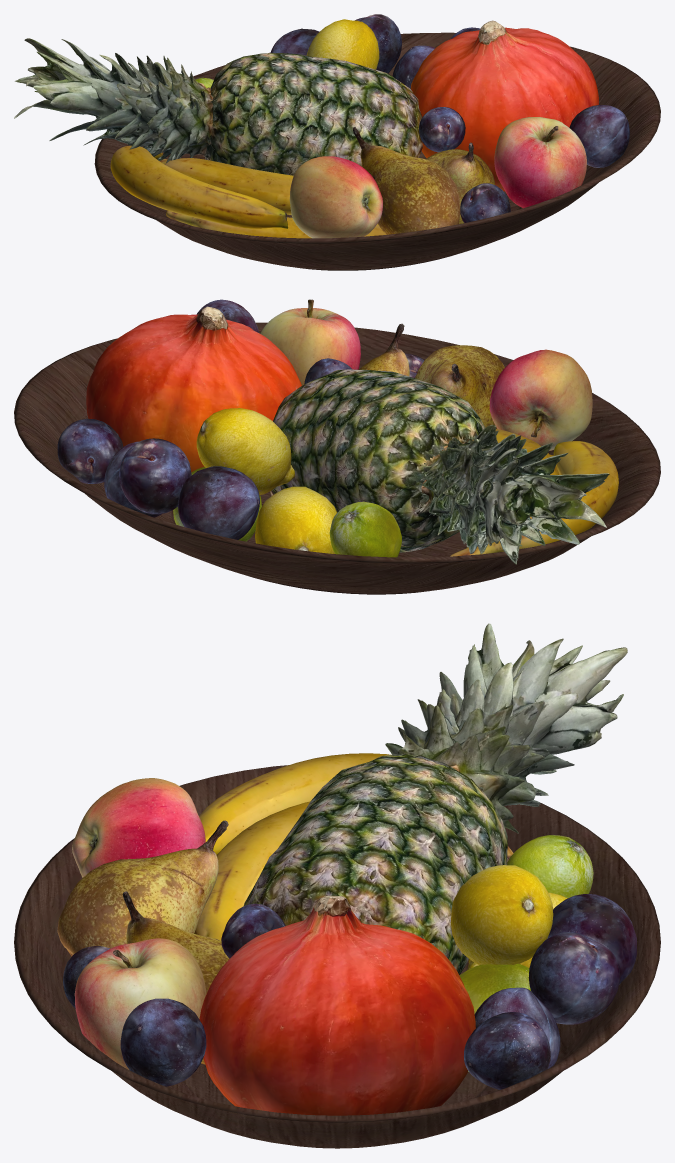
Rendered from 静物_水果_fruit_bowl_opt.glb.
3 renders of one model, top to bottom at view 1: azimuth 30°, elevation 25°; view 2: azimuth 150°, elevation 25°; view 3: azimuth 270°, elevation 25°, orthographic. The views are drawn at different scales.
Visible parts, largest first — view 1: Object_4, Object_2, Object_5, Object_6, Object_7, Object_11, Object_10, Object_8; view 2: Object_4, Object_2, Object_5, Object_11, Object_6, Object_8, Object_10, Object_7, Object_9; view 3: Object_4, Object_5, Object_2, Object_11, Object_6, Object_10, Object_7, Object_8, Object_9.
Boxes of the visible parts, bbox=[...] form: Object_4: bbox=[14, 38, 422, 175]; Object_2: bbox=[94, 32, 660, 270]; Object_5: bbox=[410, 20, 598, 191]; Object_6: bbox=[289, 117, 586, 238]; Object_7: bbox=[110, 145, 386, 238]; Object_11: bbox=[270, 14, 629, 222]; Object_10: bbox=[353, 127, 494, 234]; Object_8: bbox=[306, 19, 379, 69]; Object_4: bbox=[270, 369, 609, 564]; Object_2: bbox=[14, 322, 660, 594]; Object_5: bbox=[86, 306, 301, 472]; Object_11: bbox=[57, 299, 424, 539]; Object_6: bbox=[260, 299, 592, 450]; Object_8: bbox=[196, 408, 336, 553]; Object_10: bbox=[358, 323, 504, 428]; Object_7: bbox=[449, 427, 618, 556]; Object_9: bbox=[173, 467, 401, 557]; Object_4: bbox=[243, 623, 627, 974]; Object_5: bbox=[199, 895, 475, 1115]; Object_2: bbox=[14, 765, 660, 1148]; Object_11: bbox=[63, 894, 636, 1089]; Object_6: bbox=[72, 778, 206, 1069]; Object_10: bbox=[57, 820, 229, 1064]; Object_7: bbox=[194, 753, 513, 940]; Object_8: bbox=[450, 865, 567, 969]; Object_9: bbox=[459, 835, 593, 1071].
Bounding box in the file's own units: 0.5186 × 0.158 × 0.3661.
9 materials, 9 textured.
